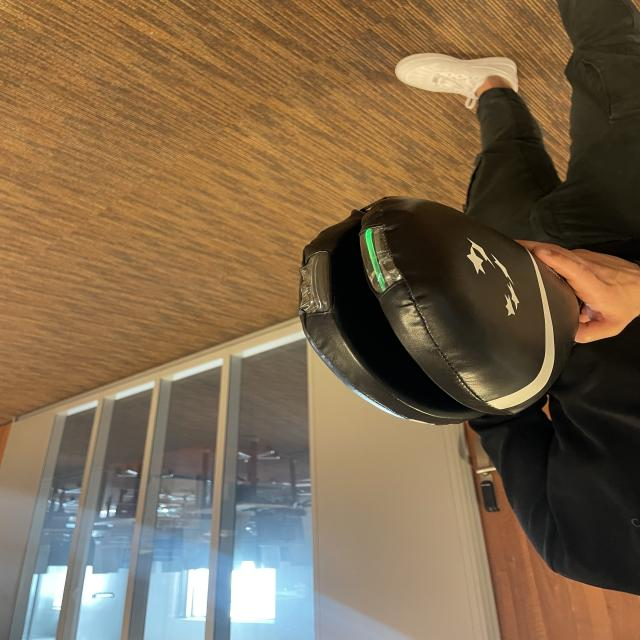paddle: (297, 198, 577, 429), (363, 223, 389, 294)
